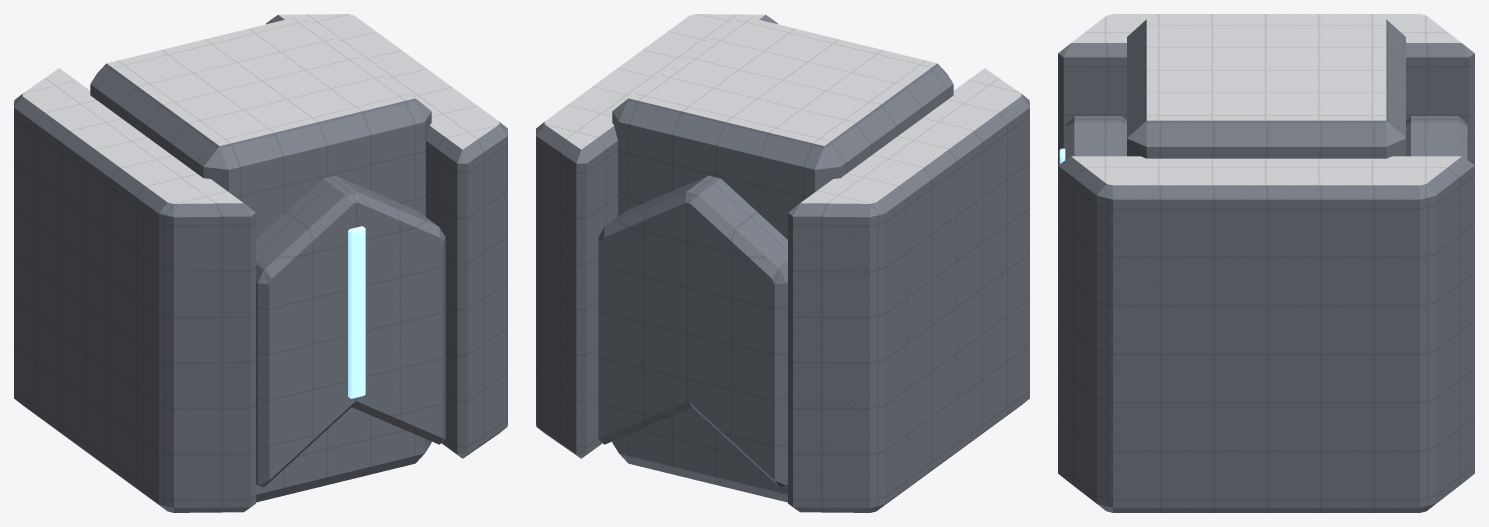
Rendered from R4X_HullBooster_LOD1.glb.
The picture shows the model from 3 angles, left to right: view 1: azimuth 30°, elevation 25°; view 2: azimuth 150°, elevation 25°; view 3: azimuth 270°, elevation 25°; orthographic projection. The views are drawn at different scales.
Parts seen in each view (by area): view 1: R4X_HullBooster_LOD1; view 2: R4X_HullBooster_LOD1; view 3: R4X_HullBooster_LOD1.
Part boxes in pixels (box(x1,y1,x2,y2)): R4X_HullBooster_LOD1: box(14, 14, 507, 512); R4X_HullBooster_LOD1: box(536, 14, 1029, 512); R4X_HullBooster_LOD1: box(1058, 14, 1474, 512).
Size of the model in its own units: 0.52 by 0.52 by 0.5076.
3 materials, 2 textured.
